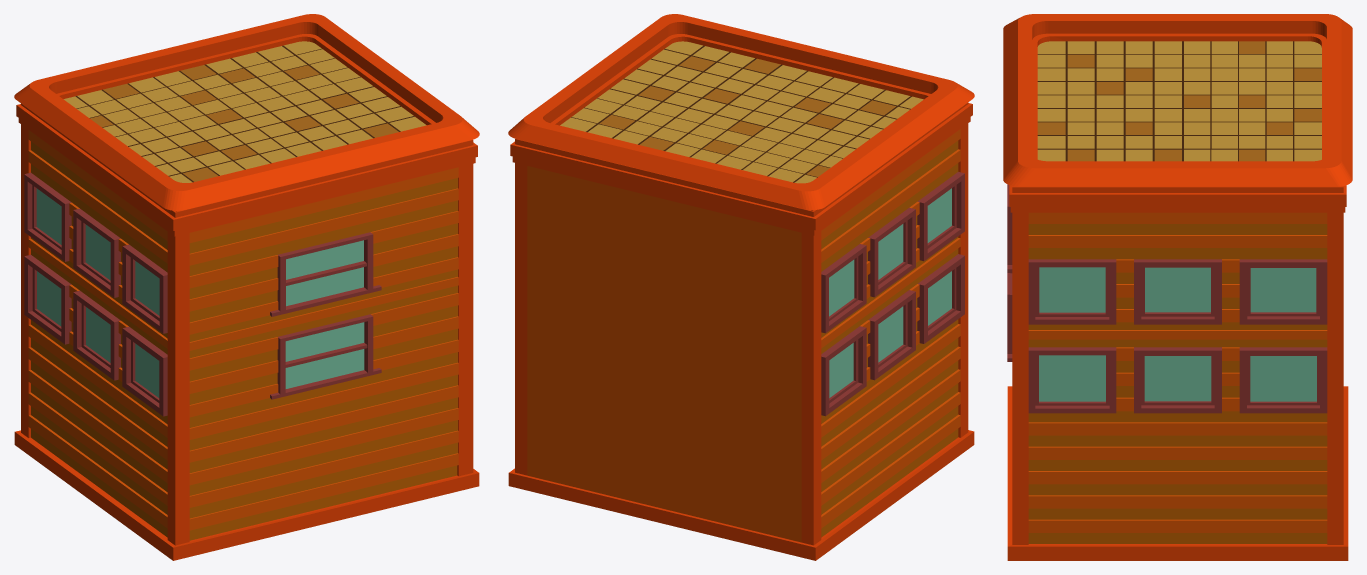
The model's file is BuildingStraight.fbx.
The picture shows the model from 3 angles, left to right: view 1: azimuth 30°, elevation 25°; view 2: azimuth 150°, elevation 25°; view 3: azimuth 270°, elevation 25°; orthographic projection. The views are drawn at different scales.
Visible parts, largest first — view 1: Cube.001; view 2: Cube.001; view 3: Cube.001.
Part boxes in pixels (x1,y1,x2,y2): Cube.001: (14, 14, 479, 560); Cube.001: (508, 14, 974, 560); Cube.001: (1003, 14, 1352, 560).
Bounding box in the file's own units: 465 × 512 × 417.
